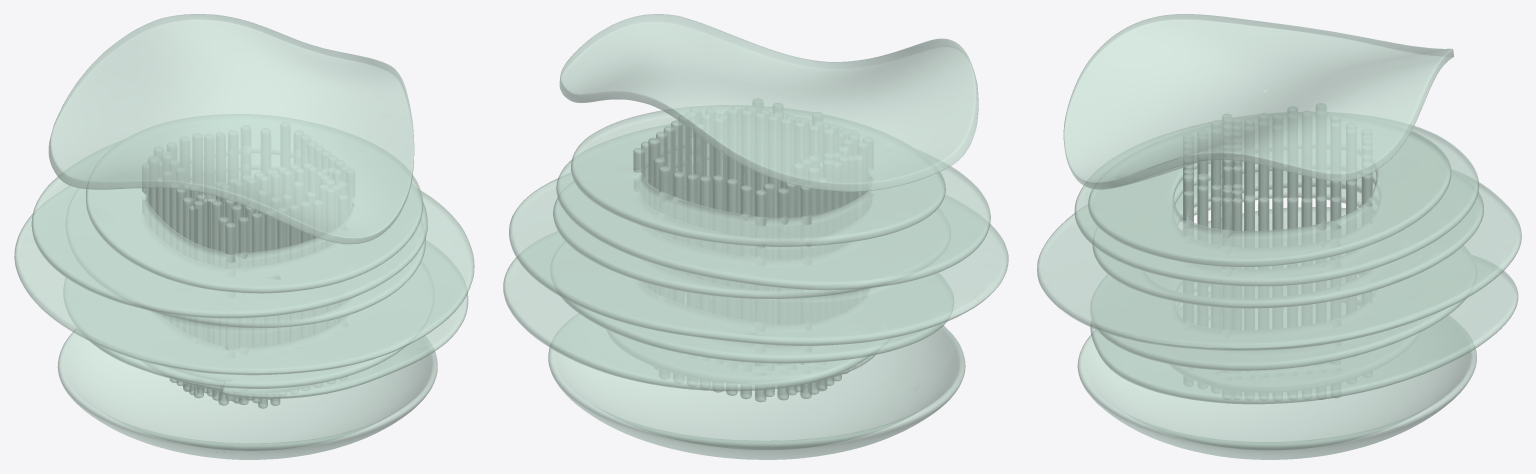
Rendered from assembl-mark-glass.glb.
3 views of the same model, side by side, from view 1: azimuth 30°, elevation 25°; view 2: azimuth 150°, elevation 25°; view 3: azimuth 270°, elevation 25° (orthographic). The views are drawn at different scales.
Visible parts, largest first — view 1: material; view 2: material; view 3: material.
Boxes of the visible parts, bbox=[...] form: material: bbox=[14, 14, 474, 459]; material: bbox=[503, 14, 1008, 459]; material: bbox=[1037, 14, 1521, 459].
Bounding box in the file's own units: 1.09 × 0.9059 × 1.09.
